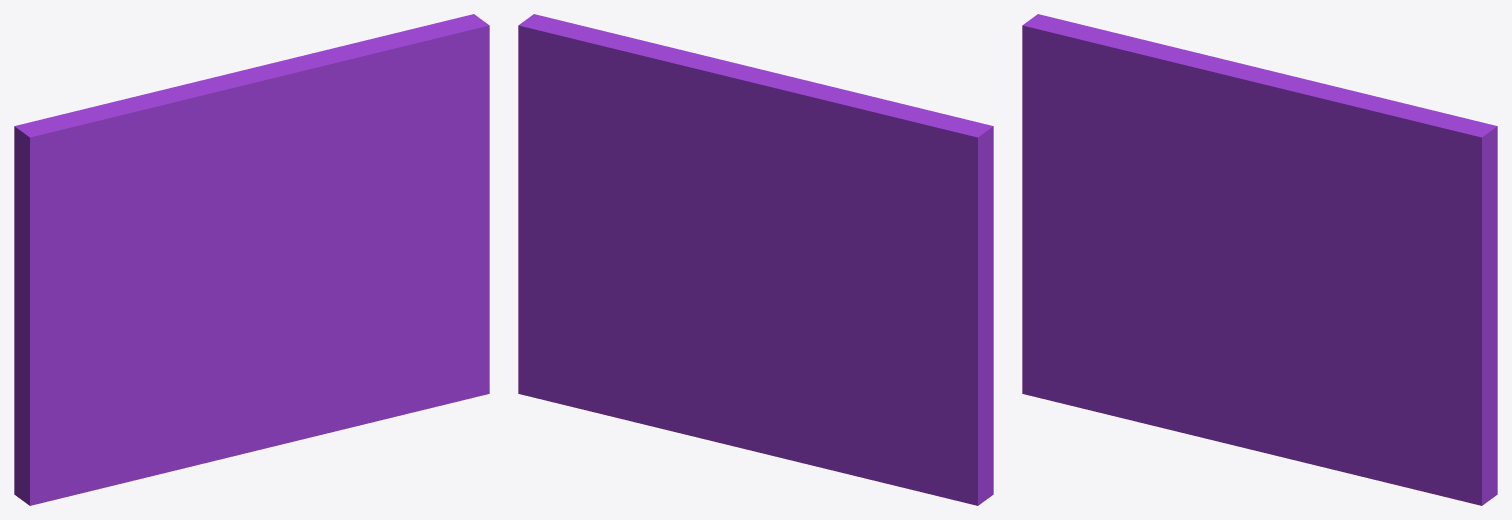
Rendered from Barrier_193_chunks.fbx.
The picture shows the model from 3 angles, left to right: view 1: azimuth 30°, elevation 25°; view 2: azimuth 150°, elevation 25°; view 3: azimuth 330°, elevation 25°; orthographic projection.
Parts seen in each view (by area): view 1: Barrier_193_3, Barrier_193_2, Barrier_193_1, Barrier_193_0; view 2: Barrier_193_3, Barrier_193_2, Barrier_193_1; view 3: Barrier_193_3, Barrier_193_2, Barrier_193_1, Barrier_193_0.
Part boxes in pixels (bbox=[...]): Barrier_193_3: bbox=[14, 94, 241, 505]; Barrier_193_2: bbox=[145, 14, 489, 256]; Barrier_193_1: bbox=[155, 211, 489, 475]; Barrier_193_0: bbox=[229, 216, 290, 297]; Barrier_193_3: bbox=[747, 94, 993, 505]; Barrier_193_2: bbox=[518, 14, 862, 266]; Barrier_193_1: bbox=[518, 214, 849, 474]; Barrier_193_3: bbox=[1022, 14, 1234, 423]; Barrier_193_2: bbox=[1152, 46, 1497, 323]; Barrier_193_1: bbox=[1147, 272, 1497, 505]; Barrier_193_0: bbox=[1221, 201, 1282, 289].
Bounding box in the file's own units: 376 × 288 × 22.1.
